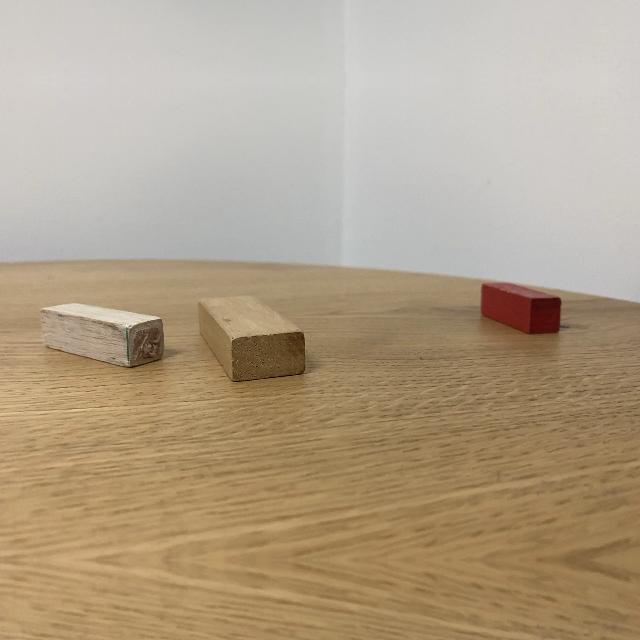block: (40, 302, 165, 368)
jenga: (198, 295, 305, 382)
red block: (481, 283, 562, 335)
